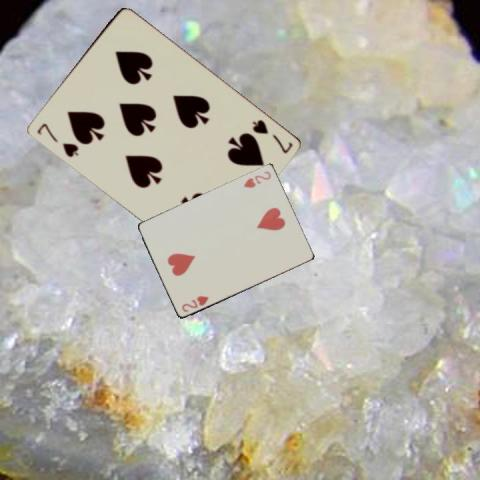2h: (241, 168, 272, 189), (179, 293, 209, 314)
7s: (33, 120, 80, 159), (248, 116, 293, 155)
